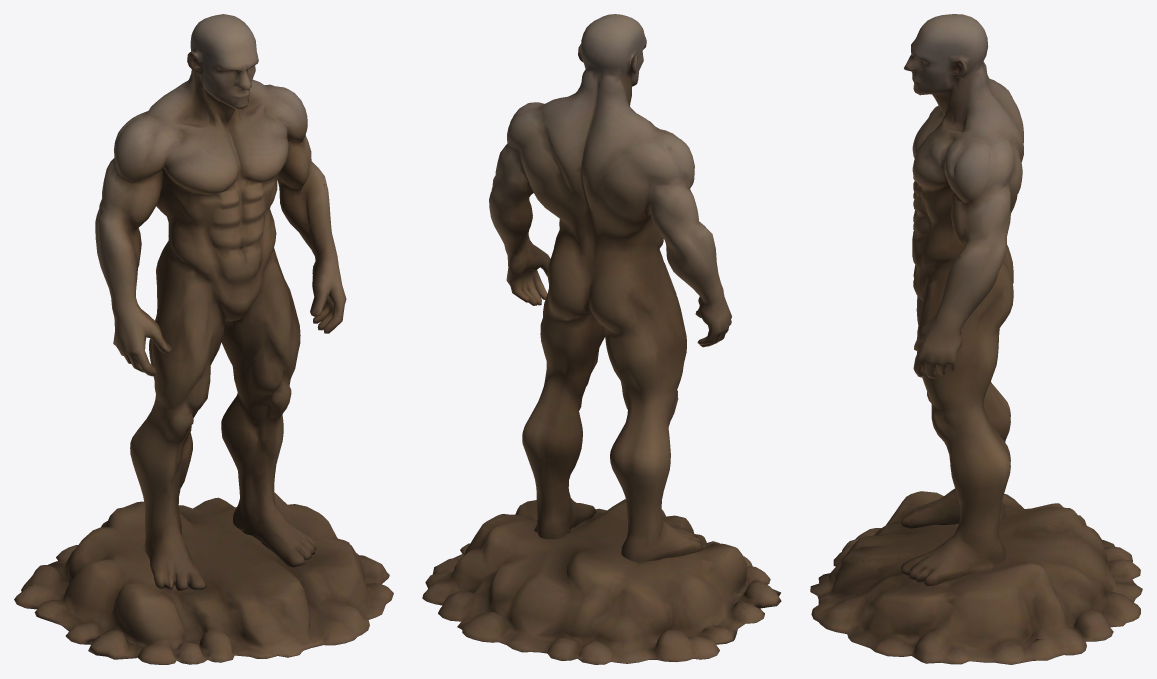
Rendered from rocky_outcrop_b582bd01_v4.glb.
3 renders of one model, left to right at view 1: azimuth 30°, elevation 25°; view 2: azimuth 150°, elevation 25°; view 3: azimuth 270°, elevation 25°, orthographic. The views are drawn at different scales.
Parts seen in each view (by area): view 1: material; view 2: material; view 3: material.
Boxes of the visible parts, x1,y1,x2,y2 form: material: [14, 14, 393, 664]; material: [422, 14, 781, 664]; material: [810, 14, 1142, 664].
Bounding box in the file's own units: 1.06 × 1.9 × 0.9998.
1 material, 1 textured.
